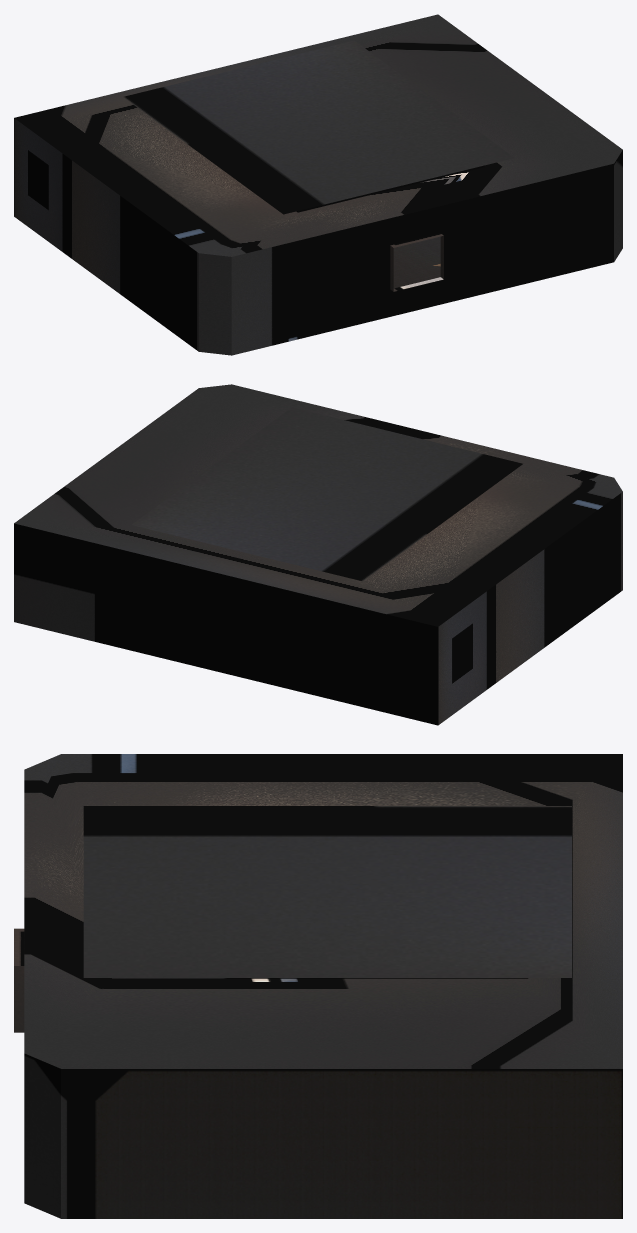
File: museum01.obj
3 views of the same model, one above another, from view 1: azimuth 30°, elevation 25°; view 2: azimuth 150°, elevation 25°; view 3: azimuth 270°, elevation 25° (orthographic). The views are drawn at different scales.
Visible parts, largest first — view 1: museum_export; view 2: museum_export; view 3: museum_export.
Boxes of the visible parts, x1,y1,x2,y2 form: museum_export: (14,14,622,355); museum_export: (14,384,622,725); museum_export: (14,754,622,1218).
Size of the model in its own units: 1633 by 403 by 1335.
